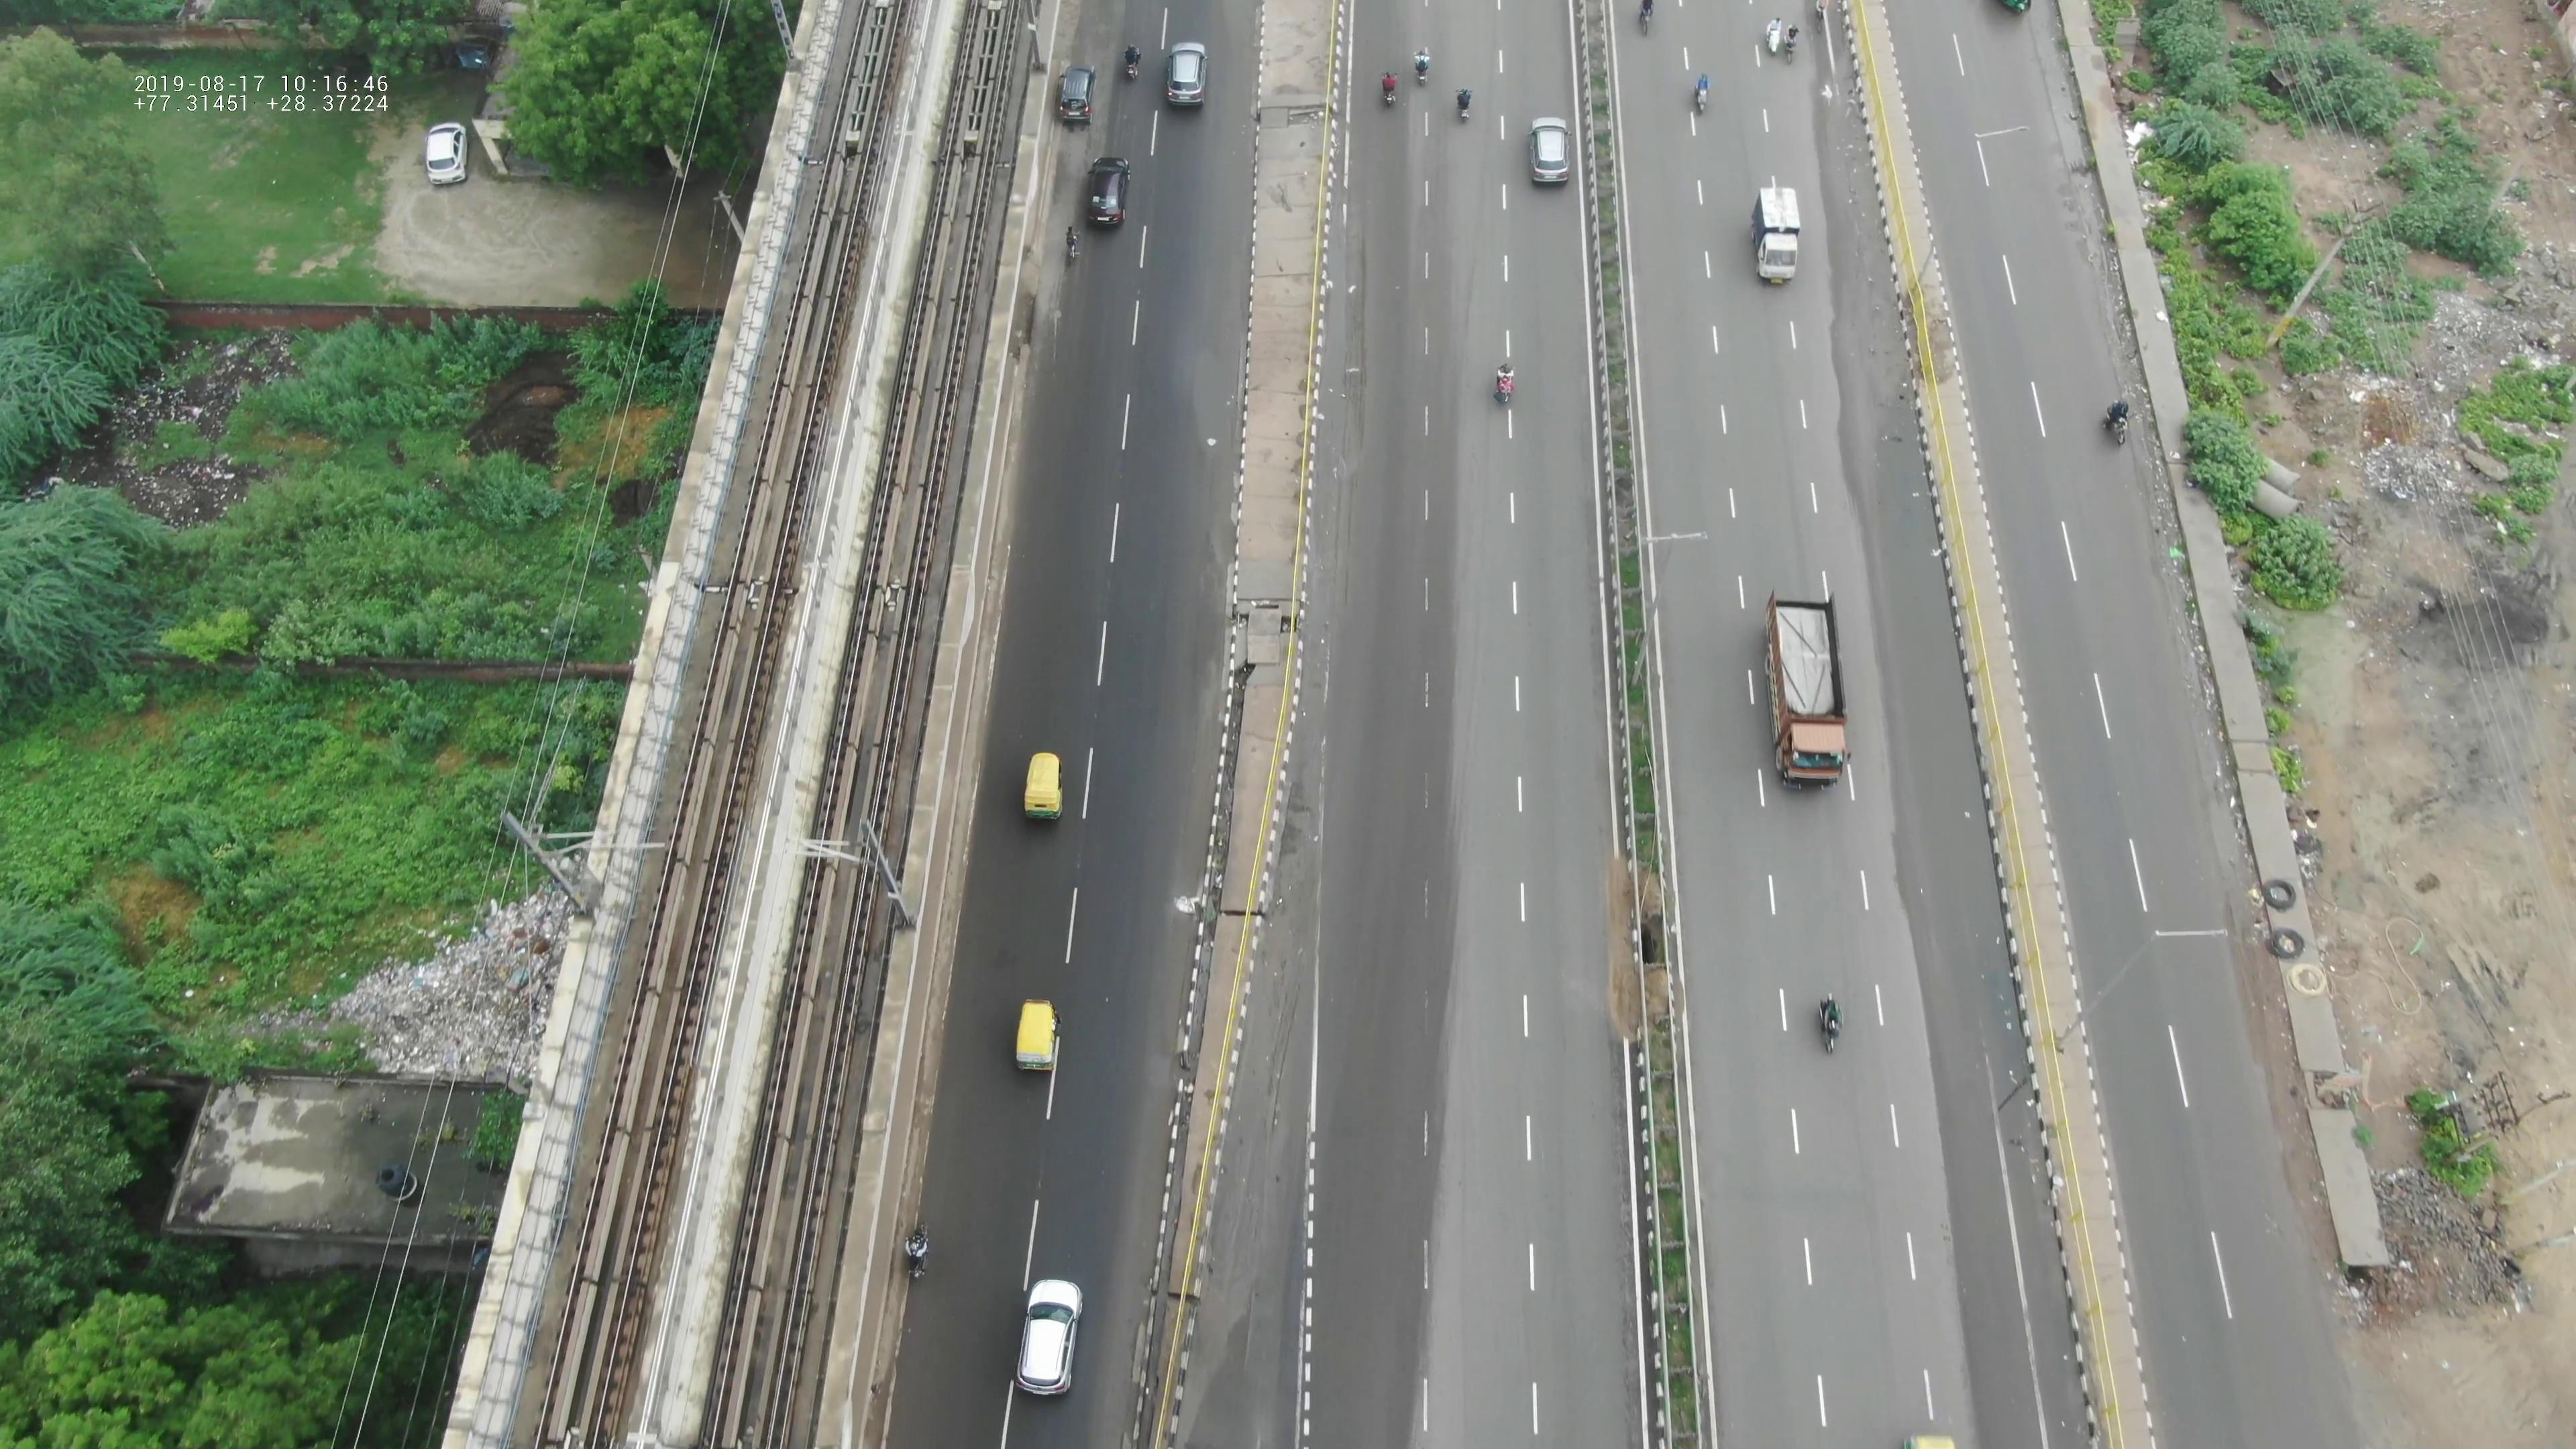Muddy_road: (1214, 954, 1295, 1277), (1810, 223, 1905, 469)
Waterlogging: (1874, 488, 2019, 1060)
